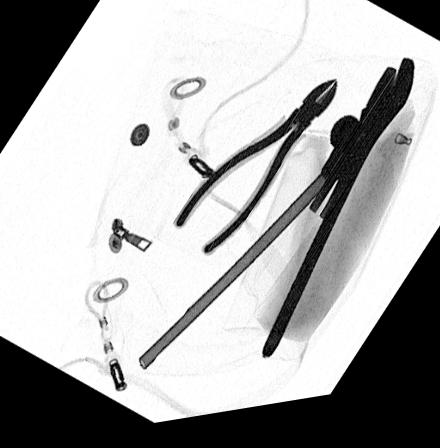Hammer: (133, 124, 364, 382)
Pliers: (173, 87, 338, 262)
Wrench: (256, 65, 420, 373)
